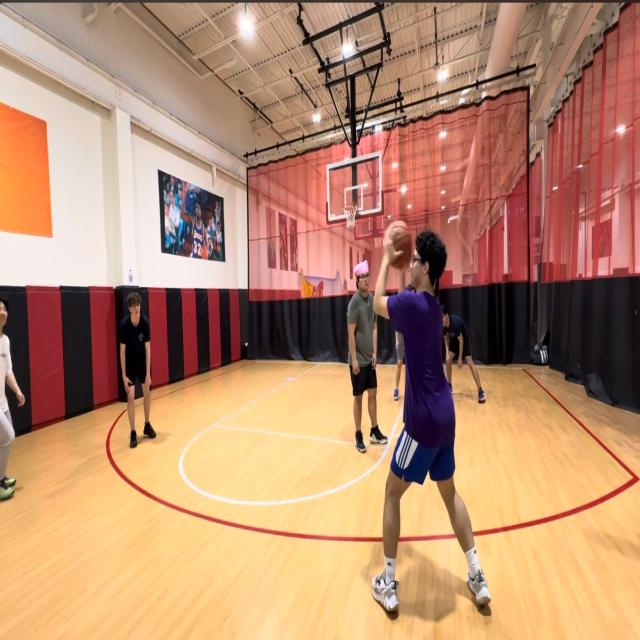Basketball: (394, 220, 412, 271)
Basketball Rim: (343, 202, 358, 230)
